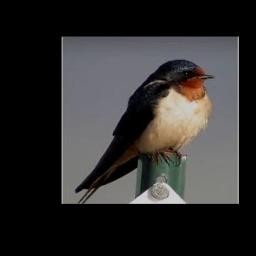Swallow: (74, 59, 215, 204)
